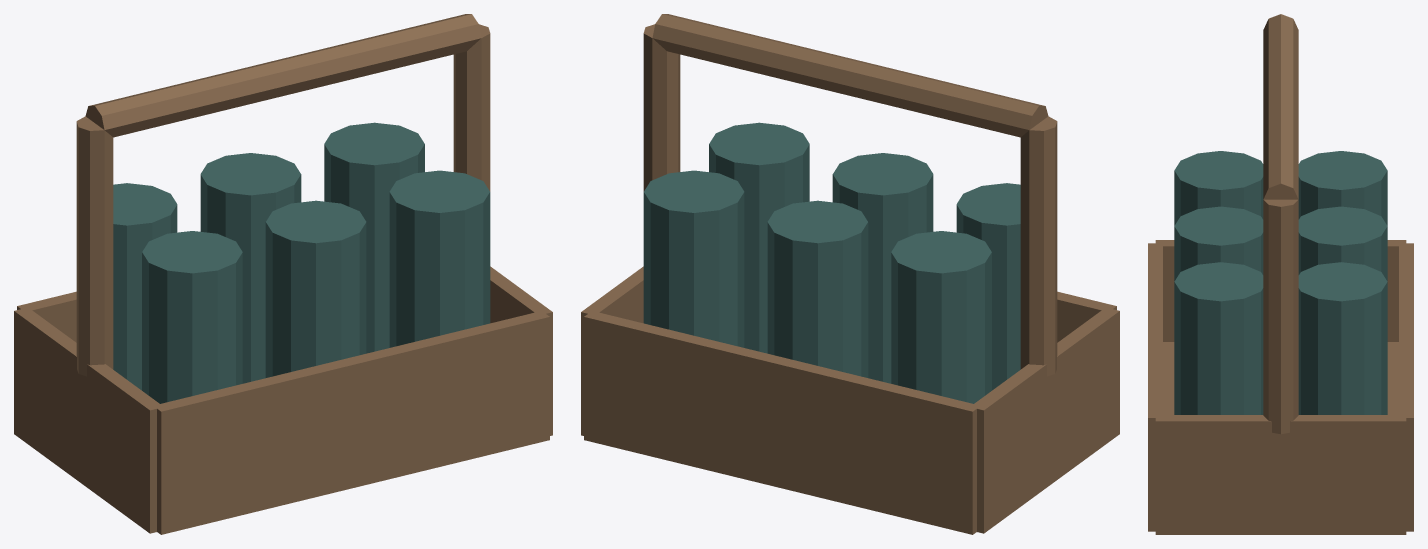
Rendered from L-09_bottle_carrier.glb.
3 renders of one model, left to right at view 1: azimuth 30°, elevation 25°; view 2: azimuth 150°, elevation 25°; view 3: azimuth 270°, elevation 25°, orthographic. The views are drawn at different scales.
Parts seen in each view (by area): view 1: L-09_bottle_carrier; view 2: L-09_bottle_carrier; view 3: L-09_bottle_carrier.
Part boxes in pixels (x1,y1,x2,y2): L-09_bottle_carrier: [14, 14, 552, 534]; L-09_bottle_carrier: [581, 14, 1119, 534]; L-09_bottle_carrier: [1148, 14, 1413, 534].
Size of the model in its own units: 0.348 by 0.304 by 0.212.
